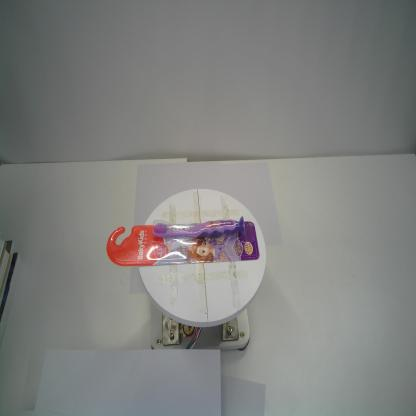Personal Hygiene: (105, 214, 261, 268)
